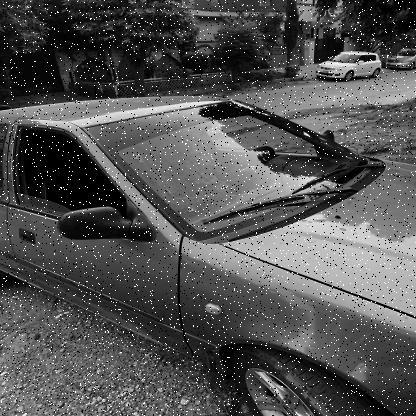no_seatbelt: (165, 130, 217, 192)
